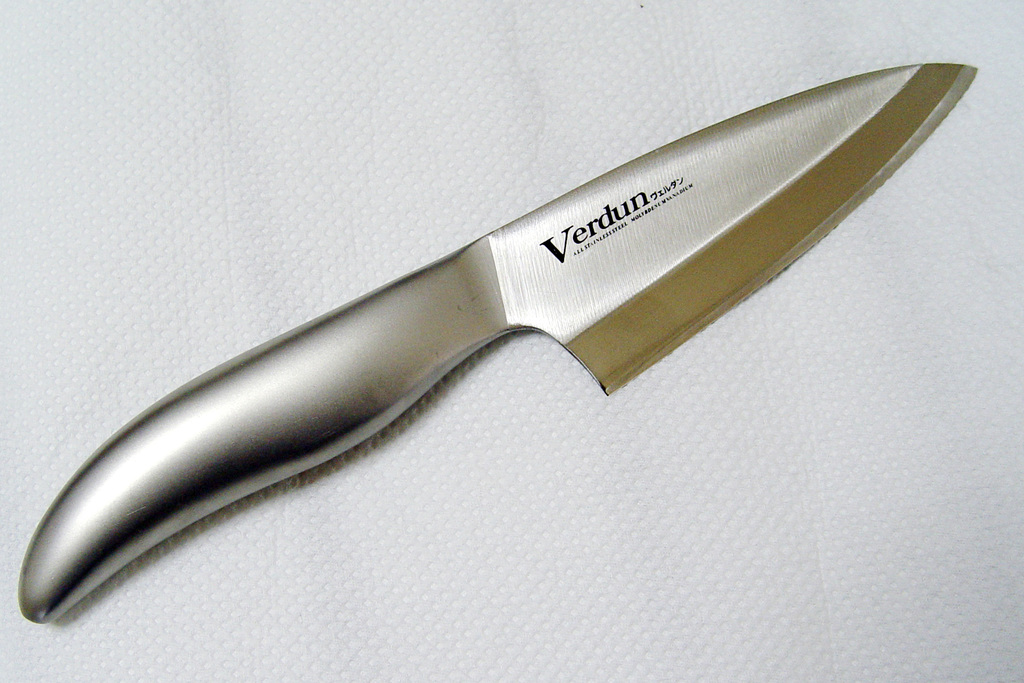kitchen knife: (17, 62, 977, 625)
